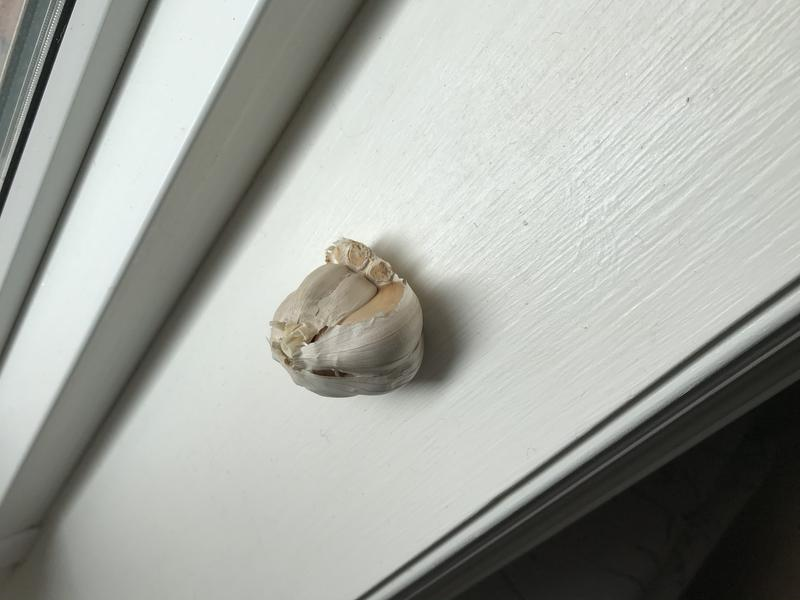garlic: (254, 234, 441, 405)
